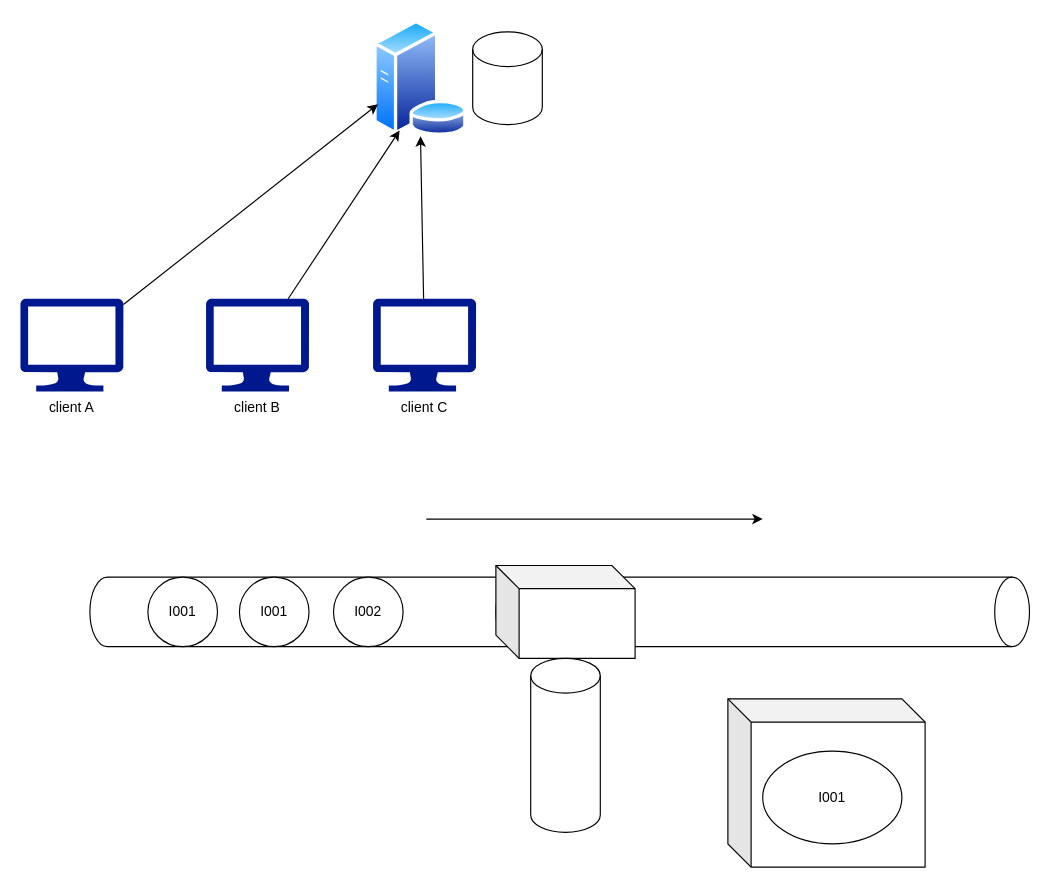
This 1050x887 diagram has some shape labels left out. The centre of each missing label's shape, as x and y in pixels:
filter: the point at 565,611
mysql-db-server: the point at 507,78
